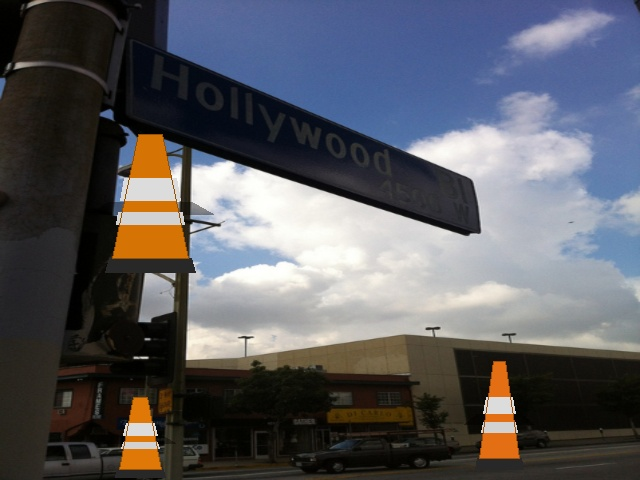traffic-cone: (105, 134, 195, 272), (475, 361, 523, 469), (115, 397, 165, 477)
